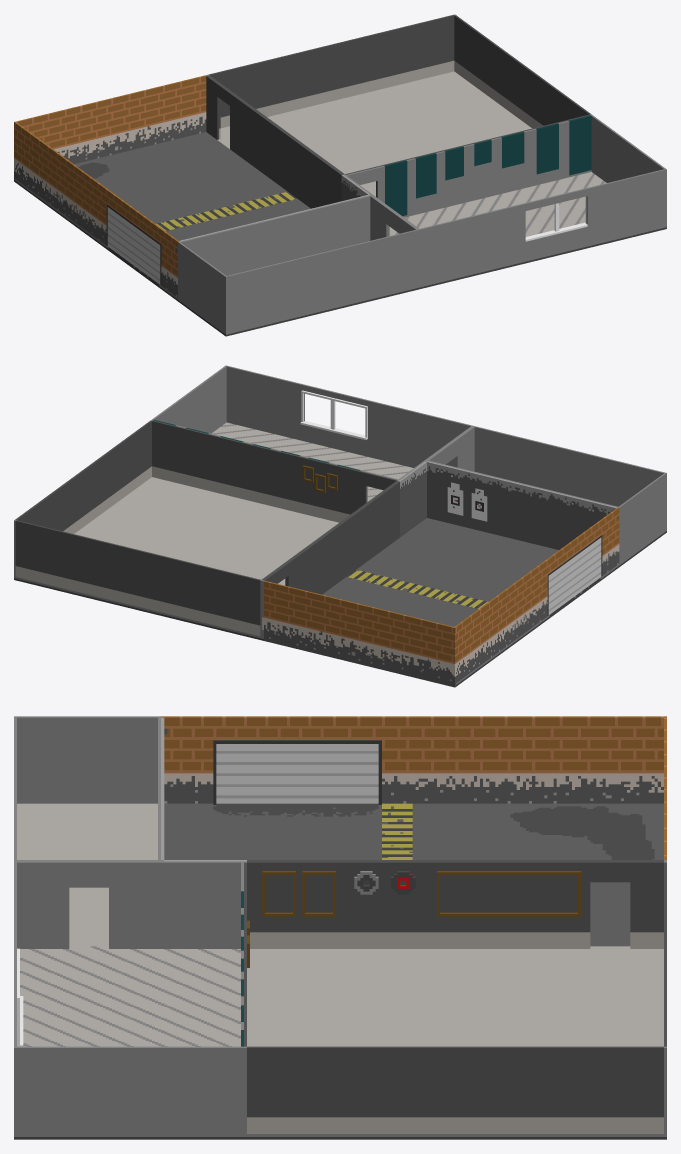
Rendered from House-3.obj.
3 views of the same model, one above another, from view 1: azimuth 30°, elevation 25°; view 2: azimuth 150°, elevation 25°; view 3: azimuth 270°, elevation 25° (orthographic). The views are drawn at different scales.
Bounding box in the file's own units: 25.6 × 3.3 × 21.3.
Materials: 1 (1 with a texture image).
